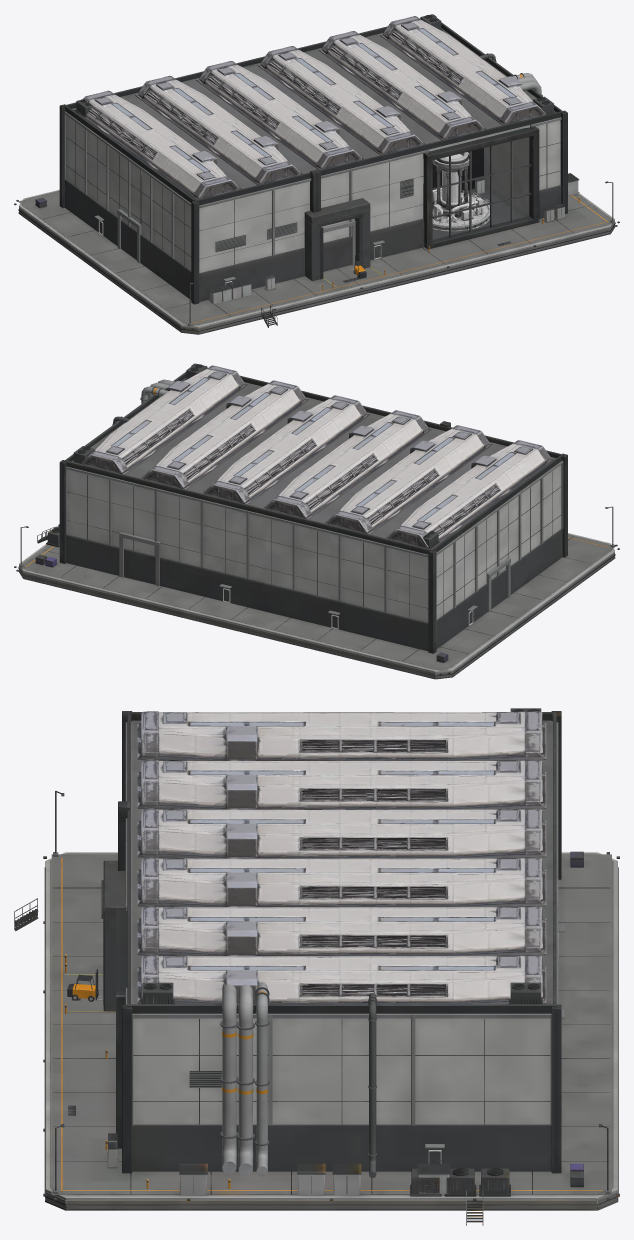
File: silicon_foundry.lite.glb
3 renders of one model, top to bottom at view 1: azimuth 30°, elevation 25°; view 2: azimuth 150°, elevation 25°; view 3: azimuth 270°, elevation 25°, orthographic. The views are drawn at different scales.
Visible parts, largest first — view 1: hull, parts_colony-roofMonitor, parts_colony-crystalReactor; view 2: hull, parts_colony-roofMonitor; view 3: hull, parts_colony-roofMonitor.
Boxes of the visible parts, x1=… form: hull: x1=14, y1=14, x2=619, y2=334; parts_colony-roofMonitor: x1=73, y1=16, x2=545, y2=199; parts_colony-crystalReactor: x1=432, y1=152, x2=489, y2=232; hull: x1=14, y1=363, x2=619, y2=679; parts_colony-roofMonitor: x1=82, y1=365, x2=553, y2=549; hull: x1=14, y1=708, x2=619, y2=1225; parts_colony-roofMonitor: x1=137, y1=711, x2=546, y2=1004.
Size of the model in its own units: 83.28 by 21.26 by 59.27.
5 materials, 5 textured.
